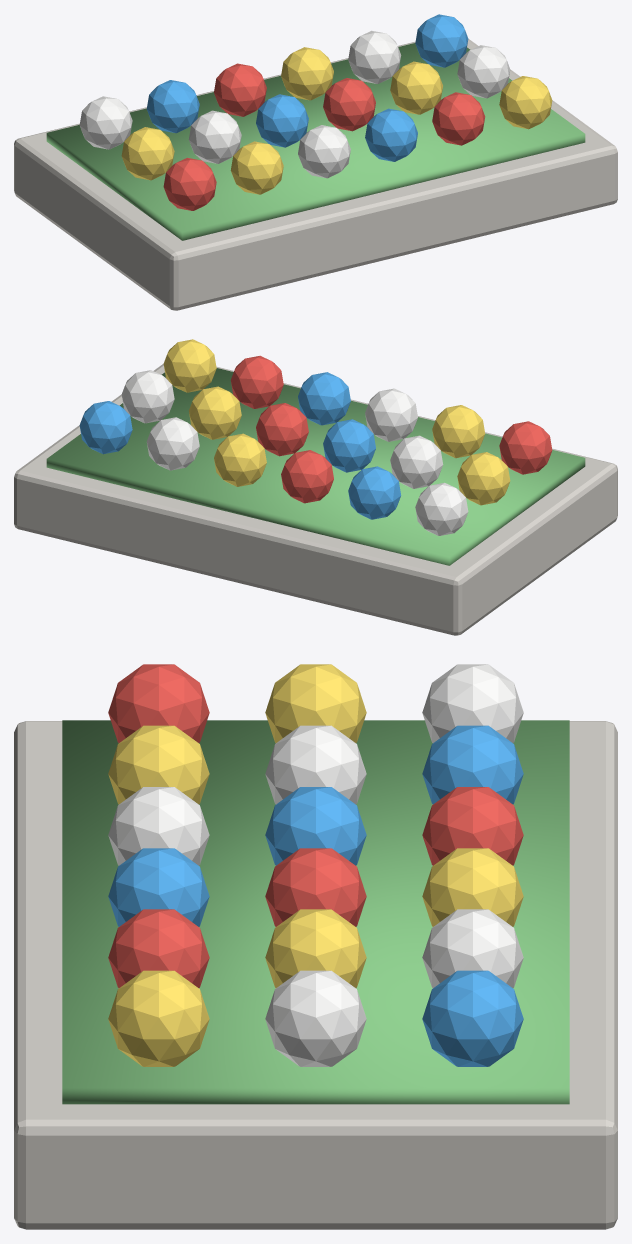
The model's file is FlowerBed.fbx.
3 renders of one model, top to bottom at view 1: azimuth 30°, elevation 25°; view 2: azimuth 150°, elevation 25°; view 3: azimuth 270°, elevation 25°, orthographic. The views are drawn at different scales.
Visible parts, largest first — view 1: Concrete.001, Leaf.003, White.002, Yellow.003, Accent.003, Blue.001; view 2: Concrete.001, Leaf.003, White.002, Yellow.003, Blue.001, Accent.003; view 3: Concrete.001, Leaf.003, White.002, Yellow.003, Blue.001, Accent.003.
Boxes of the visible parts, box(x1,y1,x2,y2) form: Concrete.001: box(14, 39, 617, 310); Leaf.003: box(46, 43, 585, 240); White.002: box(79, 30, 510, 178); Yellow.003: box(121, 47, 552, 194); Accent.003: box(163, 63, 485, 210); Blue.001: box(146, 14, 468, 161); Concrete.001: box(14, 364, 617, 635); Leaf.003: box(46, 368, 585, 565); White.002: box(121, 370, 468, 535); Yellow.003: box(163, 339, 510, 505); Blue.001: box(79, 372, 401, 519); Accent.003: box(230, 355, 552, 503); Concrete.001: box(14, 721, 617, 1229); Leaf.003: box(62, 720, 569, 1104); White.002: box(108, 664, 523, 1066); Yellow.003: box(108, 664, 523, 1066); Blue.001: box(108, 725, 523, 1066); Accent.003: box(108, 664, 523, 987).
Size of the model in its own units: 800 by 192 by 500.
